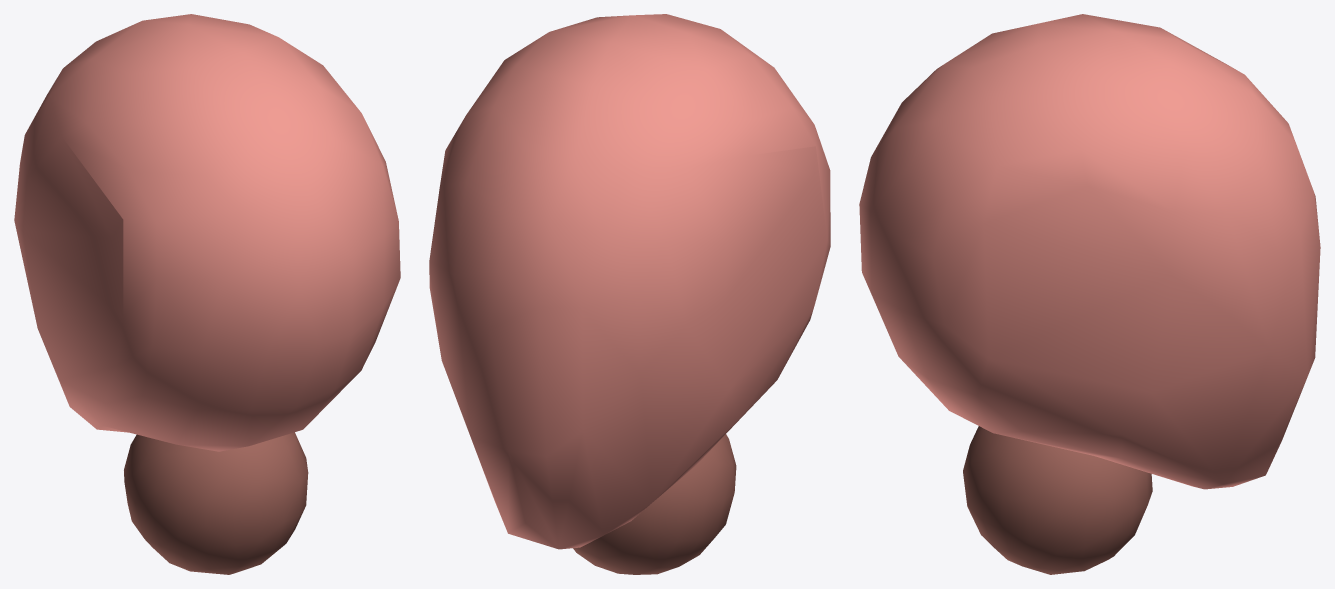
The model's file is mixamo-y-xr-head.glb.
The picture shows the model from 3 angles, left to right: view 1: azimuth 30°, elevation 25°; view 2: azimuth 150°, elevation 25°; view 3: azimuth 270°, elevation 25°; orthographic projection. The views are drawn at different scales.
Visible parts, largest first — view 1: head; view 2: head; view 3: head.
Part boxes in pixels (x1,y1,x2,y2): head: (14,14,400,574); head: (429,14,830,574); head: (859,14,1320,574).
Bounding box in the file's own units: 0.1756 × 0.3177 × 0.2486.
